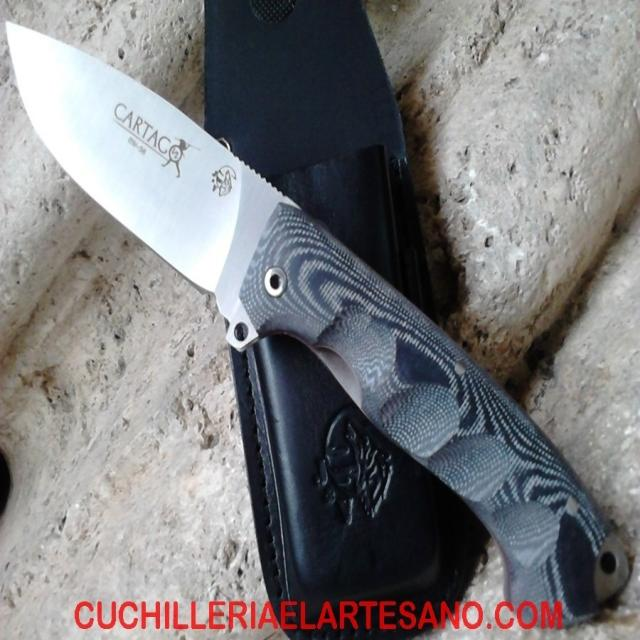knife: (4, 21, 631, 632)
